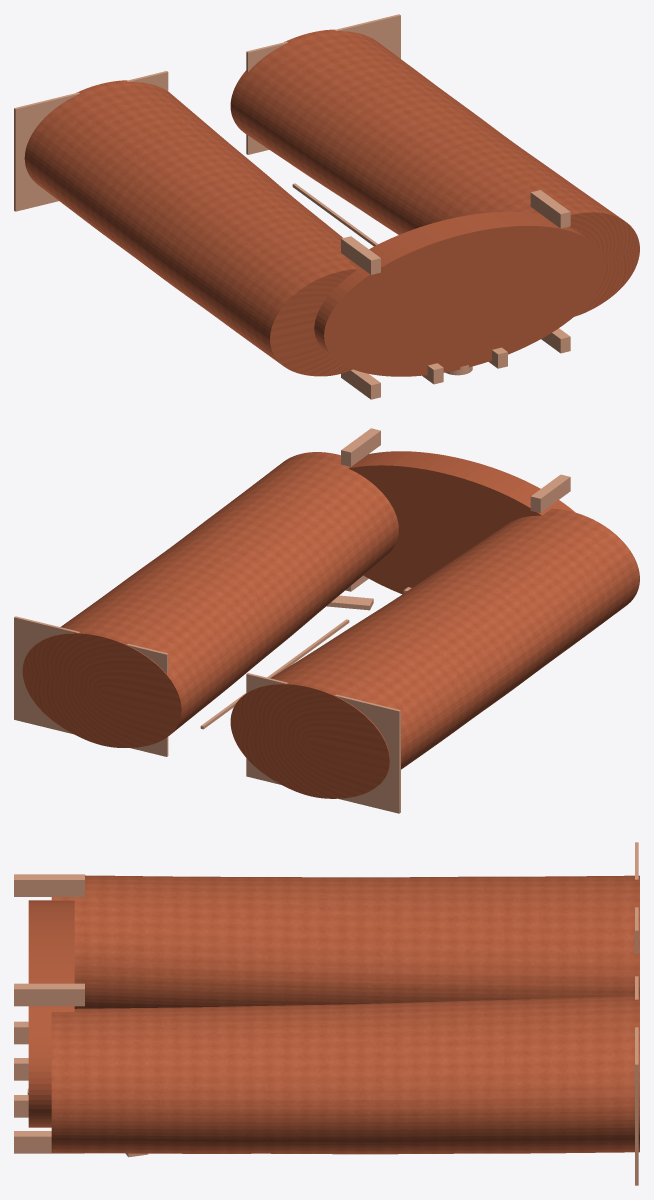
Rendered from calca-alfaiataria.gltf.
3 views of the same model, one above another, from view 1: azimuth 30°, elevation 25°; view 2: azimuth 150°, elevation 25°; view 3: azimuth 270°, elevation 25° (orthographic). The views are drawn at different scales.
Visible parts, largest first — view 1: leg_L, leg_R, waistband, hem_-1, hem_1, loop_back_0.62, loop_back_-0.62, loop_front_-0.62; view 2: leg_L, leg_R, waistband, hem_-1, hem_1, loop_back_-0.62, loop_back_0.62, crease_1; view 3: leg_R, leg_L, waistband, loop_back_0.62, loop_back_-0.62, loop_front_0.62, hem_1.
Part boxes in pixels (x1,y1,x2,y2): leg_L: [24, 80, 357, 376]; leg_R: [230, 29, 639, 316]; waistband: [314, 211, 605, 376]; hem_-1: [14, 71, 168, 211]; hem_1: [246, 14, 400, 154]; loop_back_0.62: [530, 190, 570, 228]; loop_back_-0.62: [341, 236, 380, 274]; loop_front_-0.62: [341, 369, 380, 399]; leg_L: [230, 508, 639, 798]; leg_R: [22, 452, 398, 747]; waistband: [349, 451, 575, 594]; hem_-1: [246, 673, 400, 813]; hem_1: [14, 616, 168, 756]; loop_back_-0.62: [530, 474, 570, 512]; loop_back_0.62: [341, 428, 380, 466]; crease_1: [200, 619, 349, 729]; leg_R: [51, 995, 639, 1154]; leg_L: [51, 875, 639, 1008]; waistband: [28, 900, 74, 1127]; loop_back_0.62: [14, 983, 84, 1006]; loop_back_-0.62: [14, 874, 84, 896]; loop_front_0.62: [14, 1131, 84, 1153]; hem_1: [635, 976, 638, 1185].
Bounding box in the file's own units: 2.52 × 0.89 × 3.
2 materials, 1 textured.
